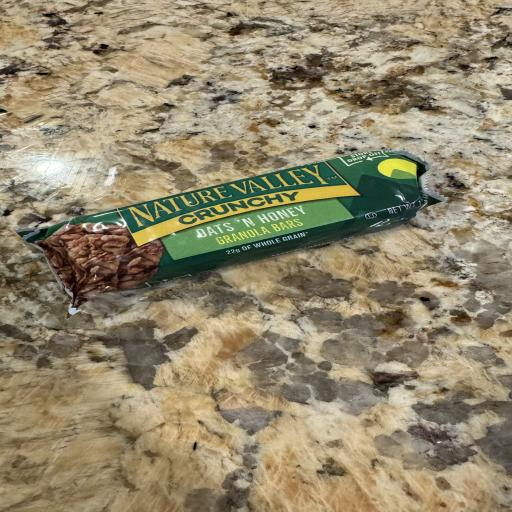granola: (18, 151, 444, 313)
